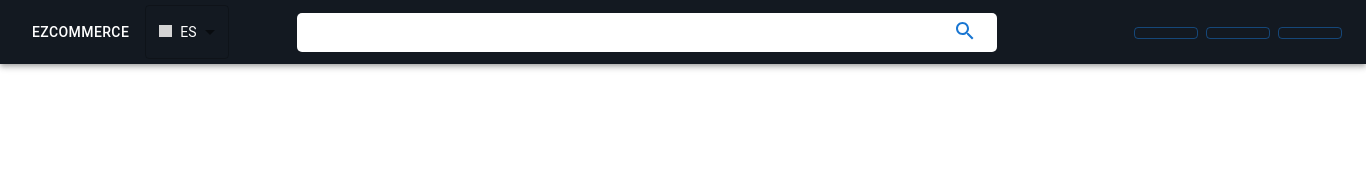
Test: TopBar Component › Test locale change button to en
Press the mouse on the dropdown "ES": (178, 32) top-left (159, 24), bottom-right (197, 40)
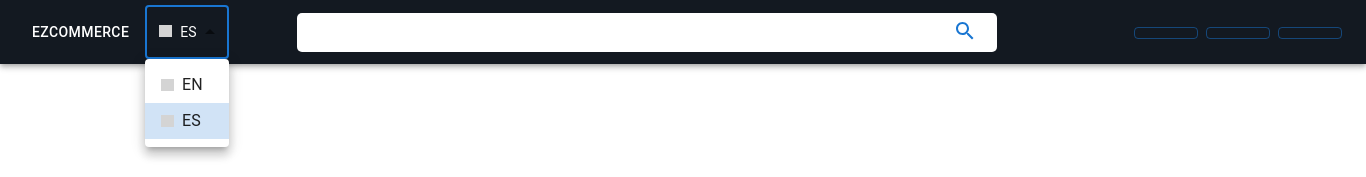
Click the option "EN": (182, 84) top-left (161, 75), bottom-right (203, 94)
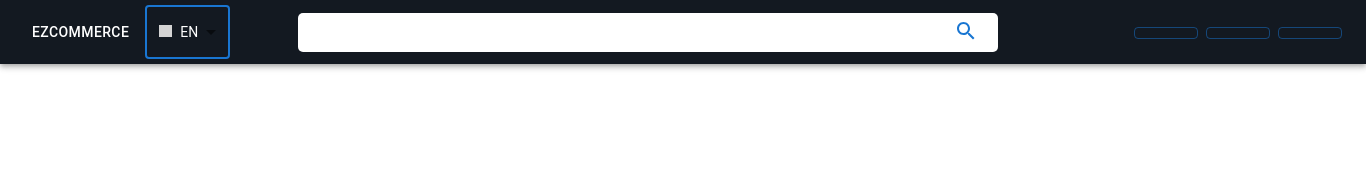
Now the dropdown "EN" is shown, box top-left (159, 24), bottom-right (198, 40)
